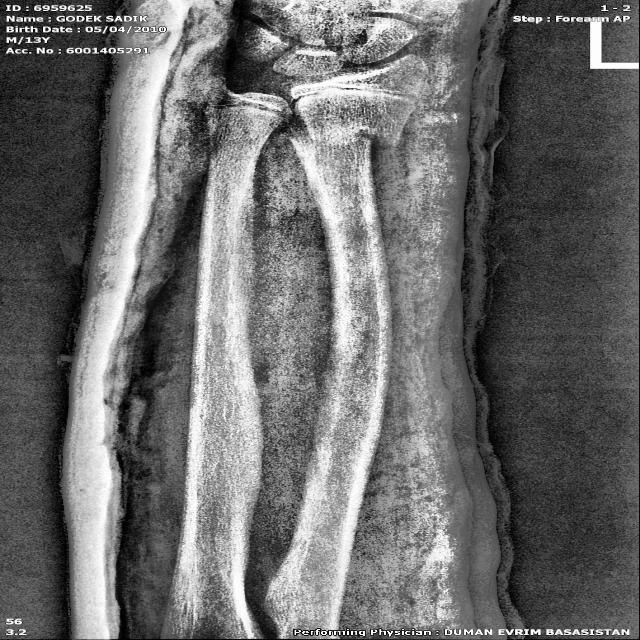Fracture: (293, 108, 405, 165)
